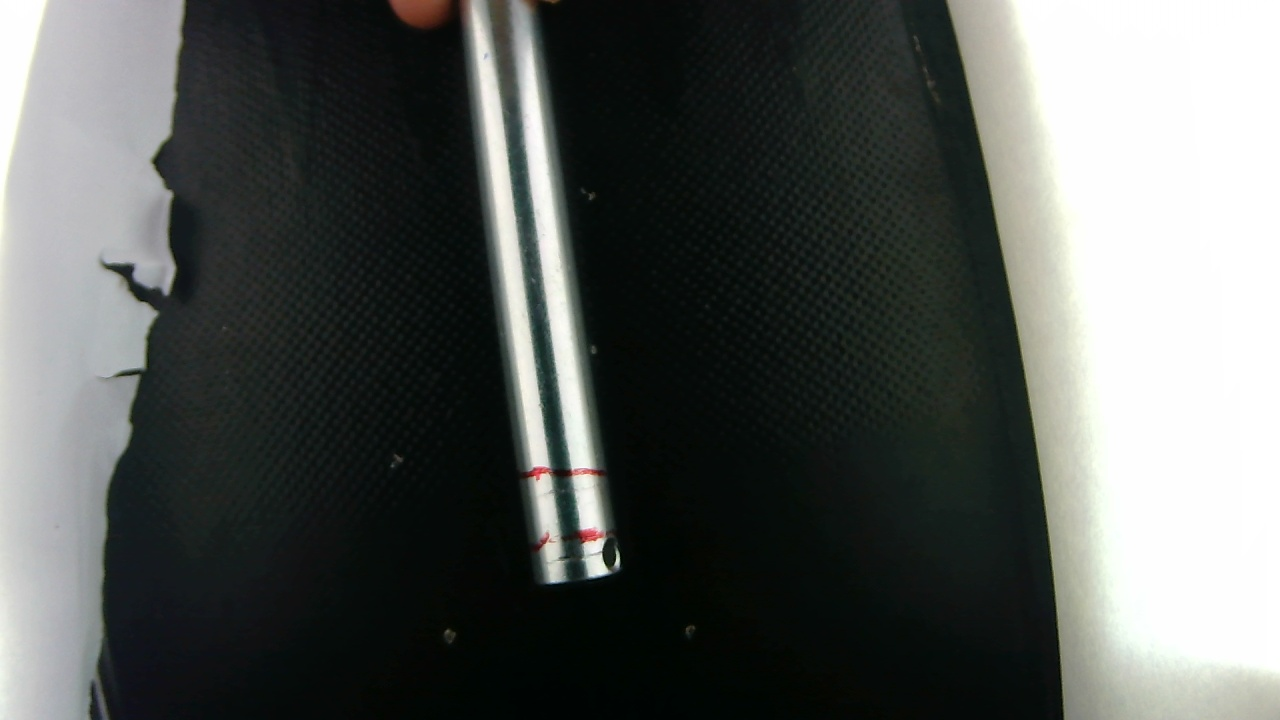odlinemark_pin: (519, 481, 610, 511)
